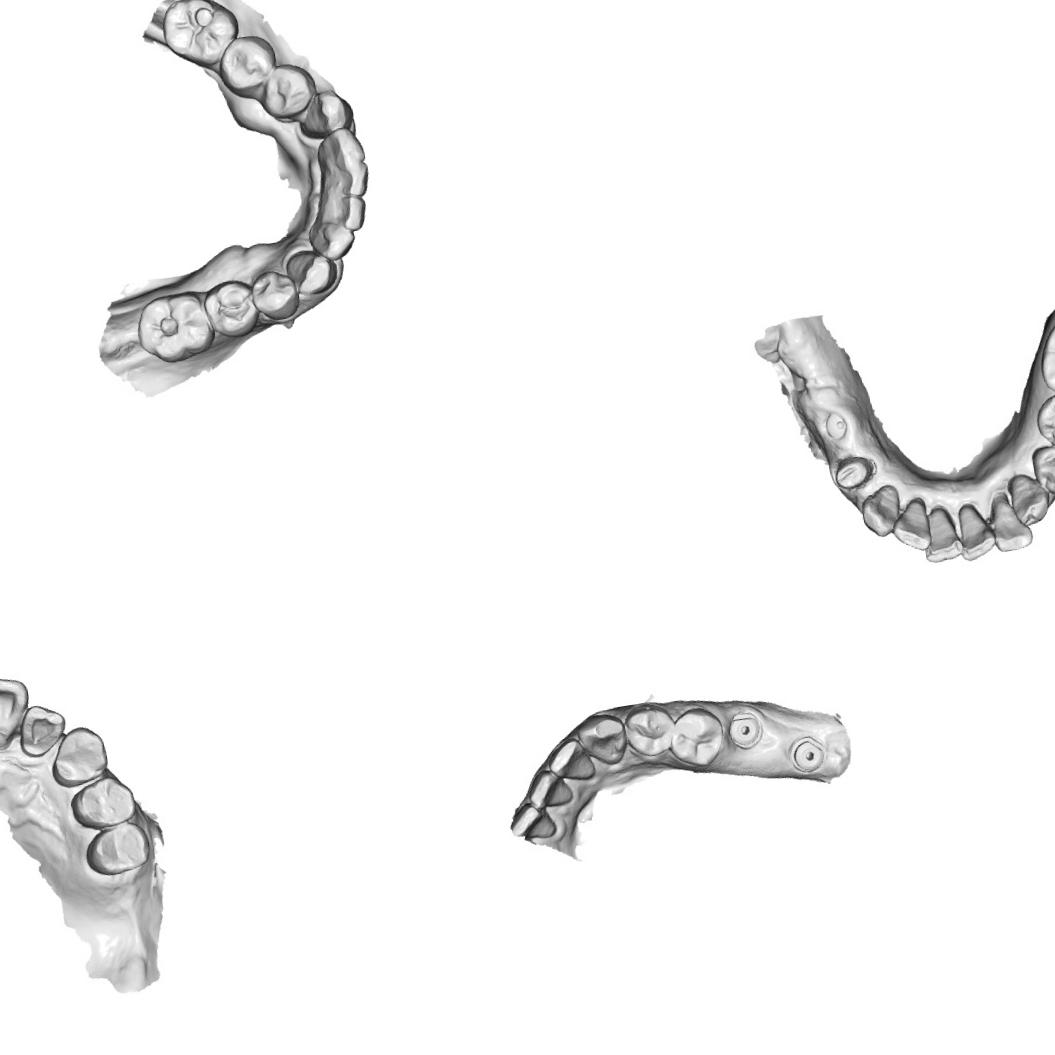canine: (43, 722, 112, 790), (570, 706, 632, 772), (1004, 467, 1055, 530), (294, 86, 353, 139), (284, 245, 341, 297), (856, 482, 905, 540)
crown: (826, 450, 880, 494)
implant: (784, 732, 831, 777), (724, 706, 768, 754), (822, 410, 850, 442)
incisor: (542, 733, 600, 790), (14, 701, 70, 759), (0, 667, 37, 753), (310, 125, 367, 179), (988, 488, 1034, 554), (918, 503, 966, 565), (954, 499, 1000, 562), (522, 761, 576, 814), (505, 799, 561, 850), (887, 496, 934, 556), (305, 215, 358, 266), (314, 188, 370, 236), (316, 156, 372, 202)
molar: (130, 286, 220, 370), (154, 0, 242, 74), (1032, 310, 1055, 403)
premolar: (661, 703, 731, 775), (214, 28, 282, 96), (80, 818, 154, 879), (67, 772, 138, 834), (254, 60, 318, 124), (618, 699, 682, 763), (200, 277, 262, 343), (248, 266, 302, 324), (1028, 441, 1055, 497), (1032, 388, 1055, 451)
